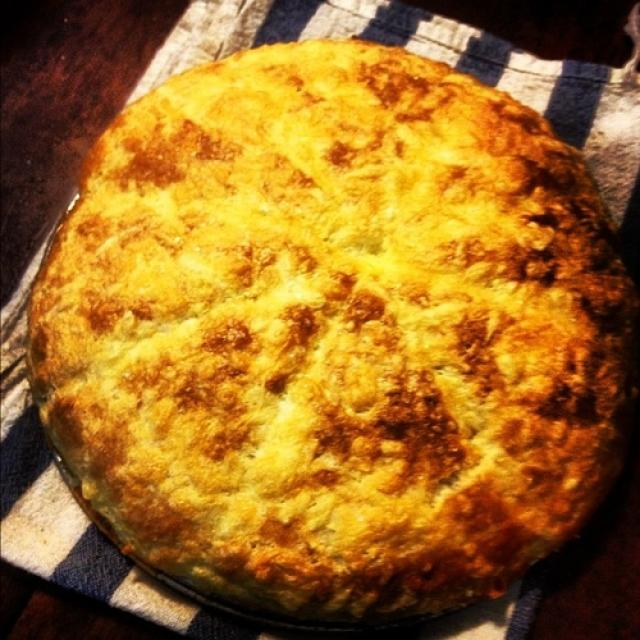面包点心: (18, 13, 635, 623)
